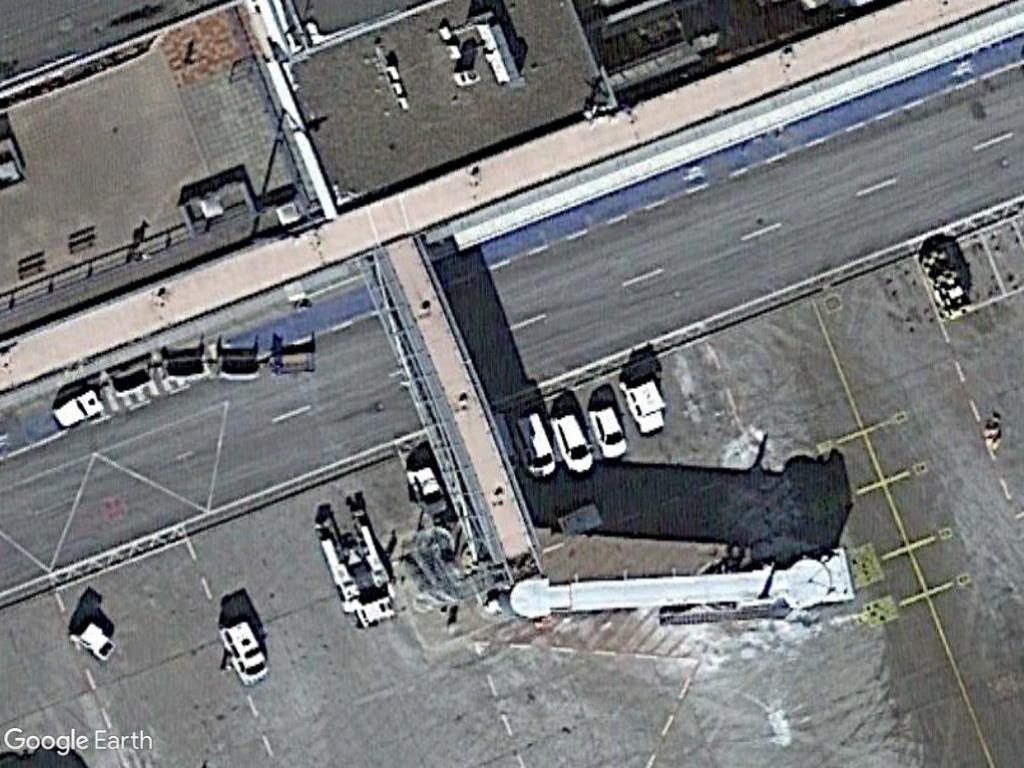car: (548, 409, 598, 478), (587, 402, 630, 463)
pushbacktruck: (315, 518, 399, 630)
van: (218, 618, 272, 688), (509, 410, 560, 482)
